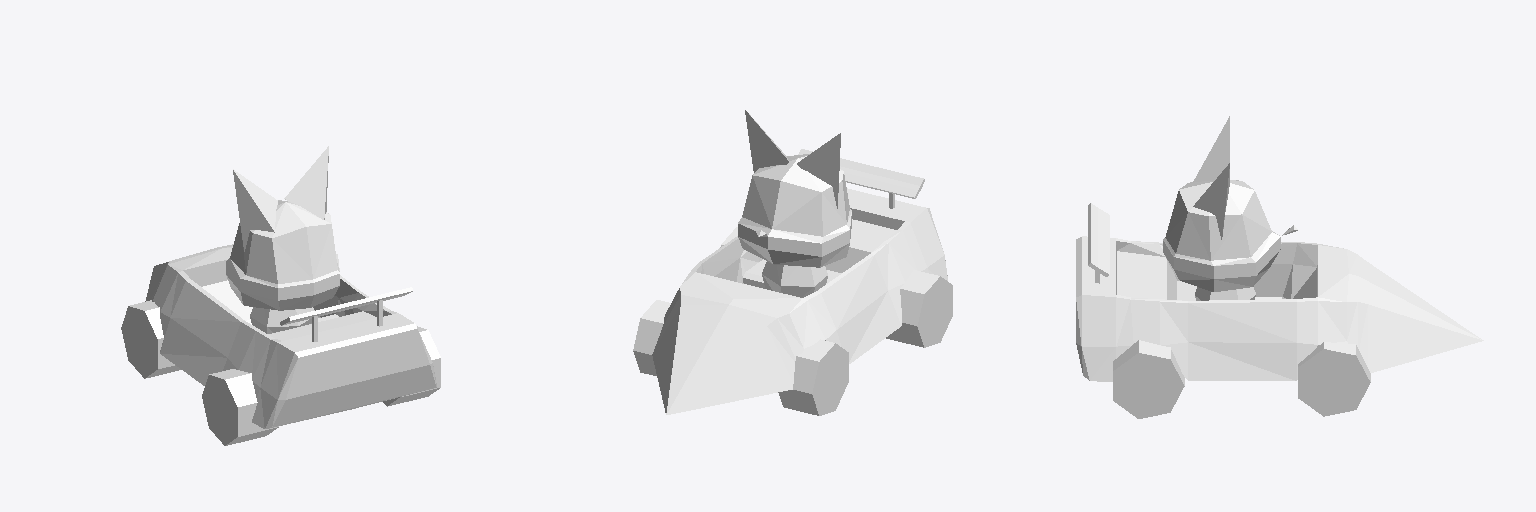
The model's file is furrykart.obj.
3 views of the same model, side by side, from view 1: azimuth 30°, elevation 25°; view 2: azimuth 150°, elevation 25°; view 3: azimuth 270°, elevation 25° (orthographic).
Visible parts, largest first — view 1: Default; view 2: Default; view 3: Default.
Part boxes in pixels (left/top/right/bottom): Default: left=121, top=146, right=440, bottom=445; Default: left=633, top=110, right=952, bottom=415; Default: left=1076, top=116, right=1483, bottom=418.
Bounding box in the file's own units: 2.31 × 2.54 × 4.